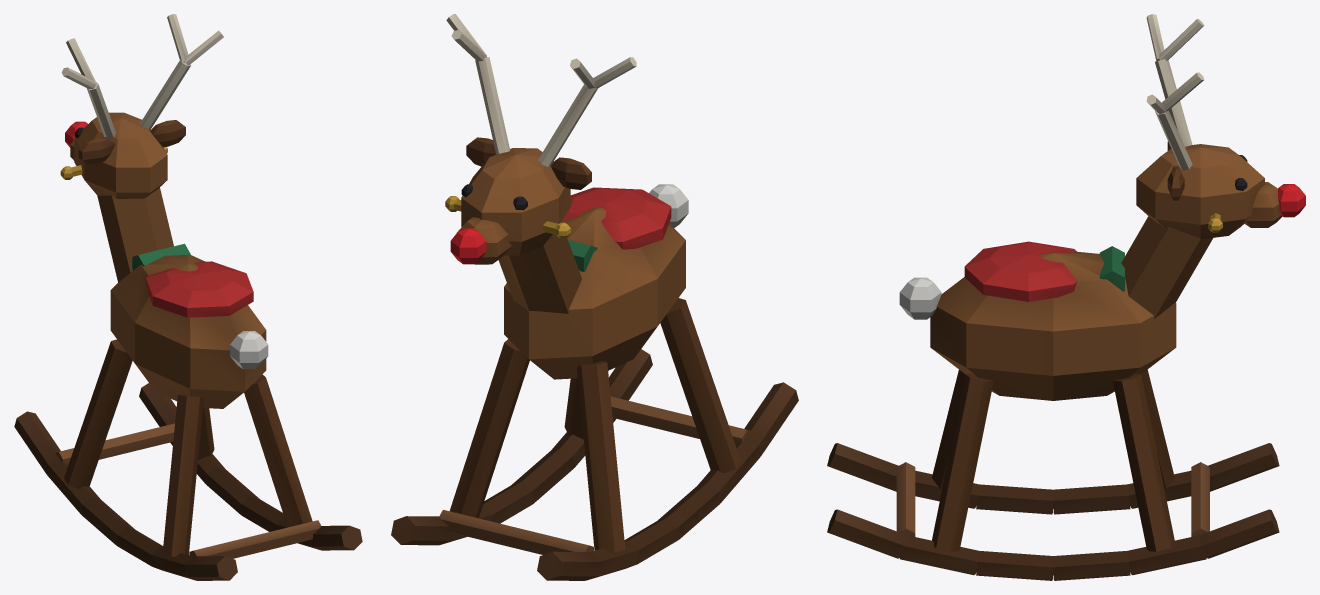
Rendered from xmas_rocking_reindeer_low.glb.
3 views of the same model, side by side, from view 1: azimuth 30°, elevation 25°; view 2: azimuth 150°, elevation 25°; view 3: azimuth 270°, elevation 25° (orthographic). The views are drawn at different scales.
Visible parts, largest first — view 1: xmas_rocking_reindeer; view 2: xmas_rocking_reindeer; view 3: xmas_rocking_reindeer.
Part boxes in pixels (x1=…): xmas_rocking_reindeer: x1=14, y1=14, x2=362, y2=580; xmas_rocking_reindeer: x1=391, y1=14, x2=798, y2=580; xmas_rocking_reindeer: x1=827, y1=14, x2=1305, y2=580.
Bounding box in the file's own units: 0.4126 × 1.13 × 0.9748.
